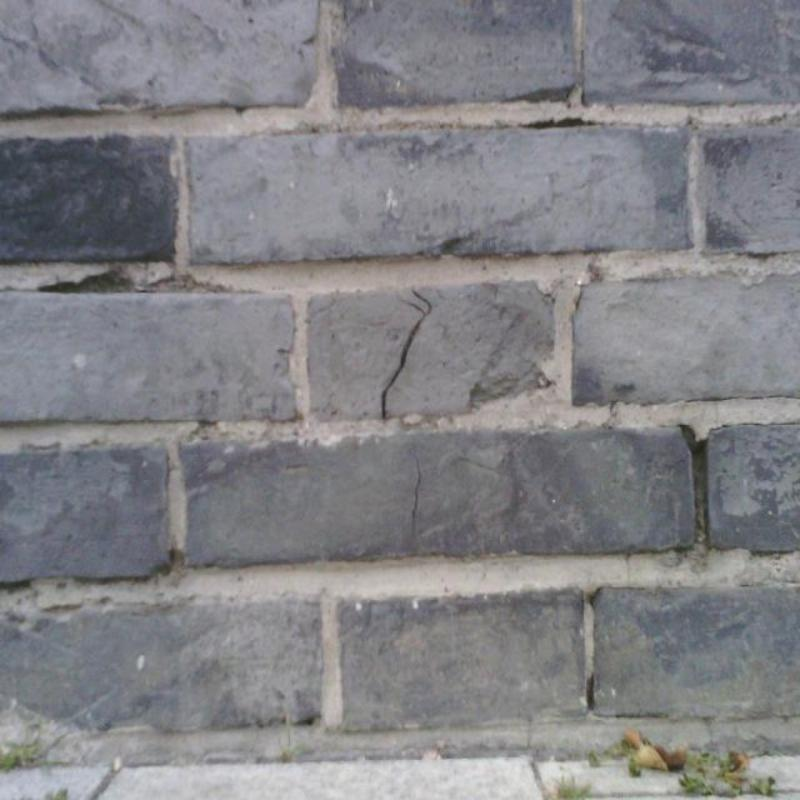pothole: (381, 287, 432, 420), (680, 425, 706, 542), (411, 437, 422, 533), (586, 672, 595, 711)
